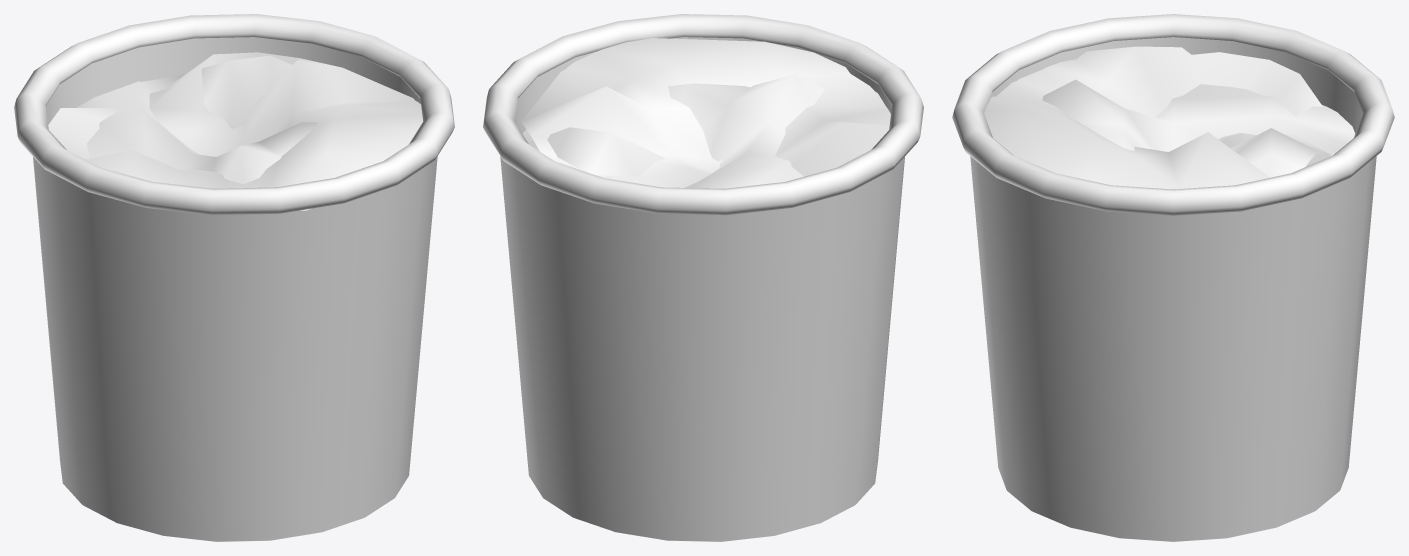
The model's file is Popcorn Full.glb.
The picture shows the model from 3 angles, left to right: view 1: azimuth 30°, elevation 25°; view 2: azimuth 150°, elevation 25°; view 3: azimuth 270°, elevation 25°; orthographic projection.
Visible parts, largest first — view 1: Popcorn Full; view 2: Popcorn Full; view 3: Popcorn Full.
Part boxes in pixels (x1,y1,x2,y2): Popcorn Full: (14, 14, 454, 541); Popcorn Full: (483, 14, 923, 541); Popcorn Full: (952, 14, 1394, 541).
Bounding box in the file's own units: 0.2627 × 0.2479 × 0.2627.
1 material, 1 textured.
